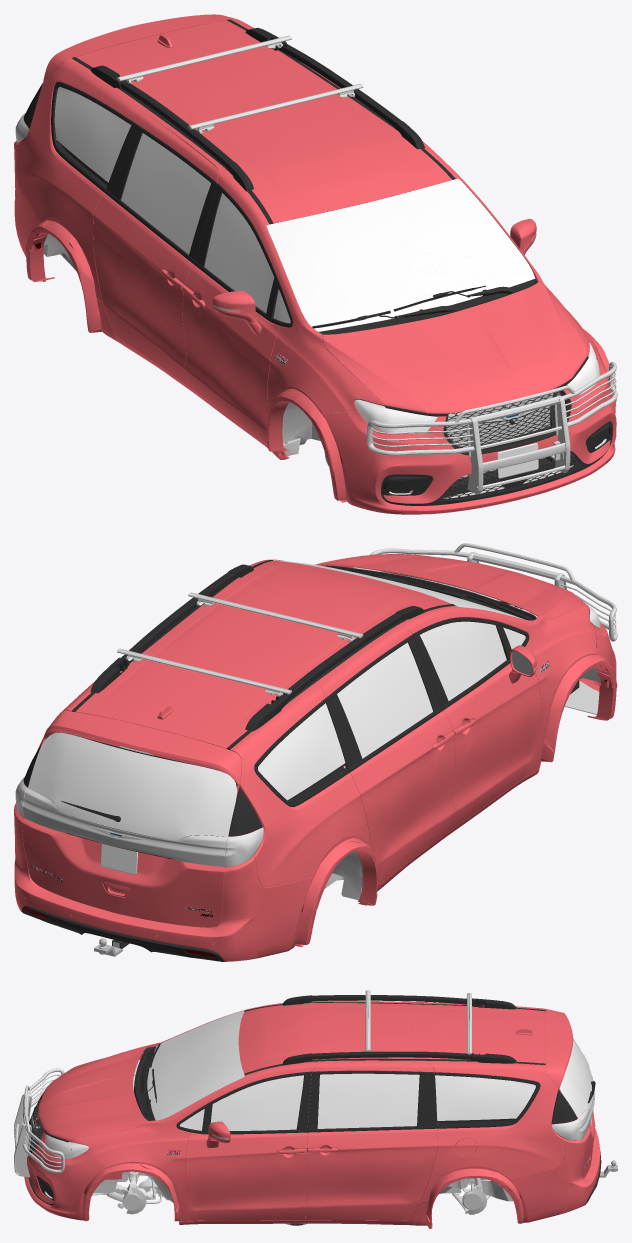
3 views of the same model, one above another, from view 1: azimuth 30°, elevation 25°; view 2: azimuth 150°, elevation 25°; view 3: azimuth 270°, elevation 25° (orthographic). The views are drawn at different scales.
Parts seen in each view (by area): view 1: pacifica23_spadie_windshield_23, pacifica23_spadie_pre_hood_17, pacifica23_spadie_roof_solid_69, pacifica23_spadie_body_5, pacifica23_spadie_pre_bumper_F_A_6, pacifica23_spadie_door_RR_10, pacifica23_spadie_roof_non_sun_99, pacifica23_spadie_door_RF_8, pacifica23_spadie_bullbar_98, pacifica23_spadie_pre_fender_R_a_83, pacifica23_spadie_door_RR_glass_11, pacifica23_spadie_door_RF_glass_9 (+17 smaller); view 2: pacifica23_spadie_trunk_15, pacifica23_spadie_body_5, pacifica23_spadie_roof_solid_69, pacifica23_spadie_door_RR_10, pacifica23_spadie_trunk_glass_16, pacifica23_spadie_pre_bumper_R_A_1, pacifica23_spadie_door_RF_8, pacifica23_spadie_roof_non_sun_99, pacifica23_spadie_pre_hood_17, pacifica23_spadie_door_RR_glass_11, pacifica23_spadie_pre_fender_R_a_83, pacifica23_spadie_RR_glass_22 (+13 smaller); view 3: pacifica23_spadie_body_5, pacifica23_spadie_door_LR_12, pacifica23_spadie_door_LF_26, pacifica23_spadie_roof_solid_69, pacifica23_spadie_pre_hood_17, pacifica23_spadie_windshield_23, pacifica23_spadie_roof_non_sun_99, pacifica23_spadie_door_LR_glass_13, pacifica23_spadie_pre_bumper_R_A_1, pacifica23_spadie_pre_fender_L_a_84, pacifica23_spadie_LR_glass_21, pacifica23_spadie_door_LF_glass_7 (+15 smaller).
Part boxes in pixels (x1,y1,x2,y2): pacifica23_spadie_windshield_23: (266,178,535,331); pacifica23_spadie_pre_hood_17: (322,282,587,413); pacifica23_spadie_roof_solid_69: (76,20,452,223); pacifica23_spadie_body_5: (16,19,561,459); pacifica23_spadie_pre_bumper_F_A_6: (322,348,616,514); pacifica23_spadie_door_RR_10: (93,114,218,387); pacifica23_spadie_roof_non_sun_99: (189,85,406,193); pacifica23_spadie_door_RF_8: (182,184,281,445); pacifica23_spadie_bullbar_98: (366,362,617,494); pacifica23_spadie_pre_fender_R_a_83: (267,322,382,502); pacifica23_spadie_door_RR_glass_11: (121,133,211,254); pacifica23_spadie_door_RF_glass_9: (204,193,274,312); pacifica23_spadie_trunk_15: (21,711,241,927); pacifica23_spadie_body_5: (18,559,541,948); pacifica23_spadie_roof_solid_69: (76,560,451,748); pacifica23_spadie_door_RR_10: (321,629,455,883); pacifica23_spadie_trunk_glass_16: (28,732,237,839); pacifica23_spadie_pre_bumper_R_A_1: (14,803,313,961); pacifica23_spadie_door_RF_8: (413,617,541,831); pacifica23_spadie_roof_non_sun_99: (189,569,406,662); pacifica23_spadie_pre_hood_17: (323,554,586,619); pacifica23_spadie_door_RR_glass_11: (337,642,432,758); pacifica23_spadie_pre_fender_R_a_83: (526,605,617,771); pacifica23_spadie_RR_glass_22: (258,703,345,800); pacifica23_spadie_body_5: (105,1001,577,1225); pacifica23_spadie_door_LR_12: (305,1062,437,1220); pacifica23_spadie_door_LF_26: (185,1071,311,1220); pacifica23_spadie_roof_solid_69: (238,1003,545,1073); pacifica23_spadie_pre_hood_17: (38,1046,148,1141); pacifica23_spadie_windshield_23: (147,1010,244,1120); pacifica23_spadie_roof_non_sun_99: (265,1008,408,1056); pacifica23_spadie_door_LR_glass_13: (317,1073,419,1128); pacifica23_spadie_pre_bumper_R_A_1: (508,1128,601,1222); pacifica23_spadie_pre_fender_L_a_84: (70,1120,188,1221); pacifica23_spadie_LR_glass_21: (435,1075,535,1120); pacifica23_spadie_door_LF_glass_7: (210,1075,303,1130).
Bounding box in the file's own units: 2.33 × 1.93 × 5.36.
Materials: 19 (1 with a texture image).
